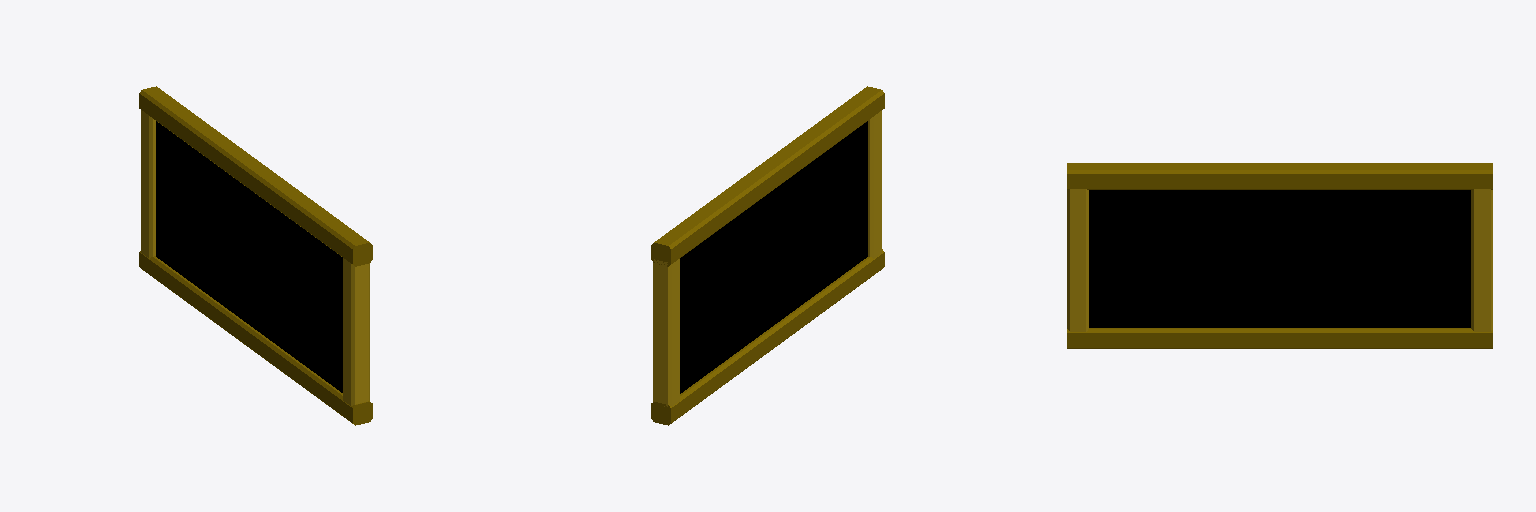
The picture shows the model from 3 angles: view 1: azimuth 30°, elevation 25°; view 2: azimuth 150°, elevation 25°; view 3: azimuth 270°, elevation 25°; orthographic projection.
Visible parts, largest first — view 1: Box007, Box005, Box002, Box006, Box004; view 2: Box007, Box005, Box002, Box004, Box006; view 3: Box007, Box005, Box002, Box004, Box006.
Part boxes in pixels (x1,y1,x2,y2): Box007: (156,121,342,392); Box005: (139,86,372,266); Box002: (139,251,372,425); Box006: (343,258,369,405); Box004: (141,110,155,258); Box007: (680,121,867,393); Box005: (651,86,884,266); Box002: (651,249,884,425); Box004: (653,259,679,406); Box006: (868,111,881,258); Box007: (1089,190,1470,327); Box005: (1067,163,1492,189); Box002: (1067,328,1492,348); Box004: (1471,189,1492,331); Box006: (1067,189,1088,331).
Bounding box in the file's own units: 3 × 26 × 56.
Materials: 3 (1 with a texture image).